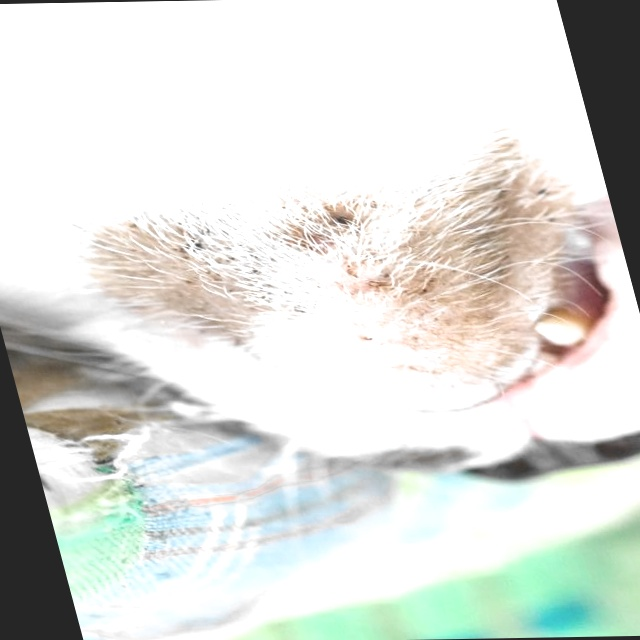acne: (261, 190, 424, 302)
